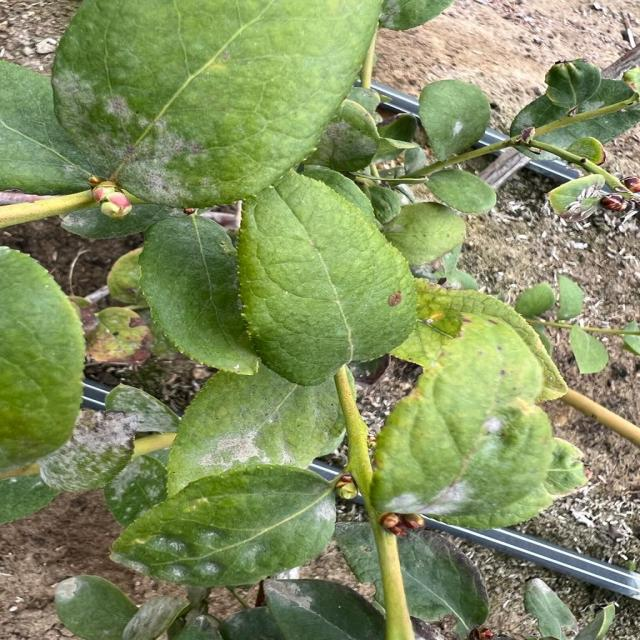Hojas con oidiosis: (53, 0, 304, 199), (379, 344, 544, 522), (184, 371, 335, 494), (152, 504, 327, 585), (59, 572, 117, 629)
